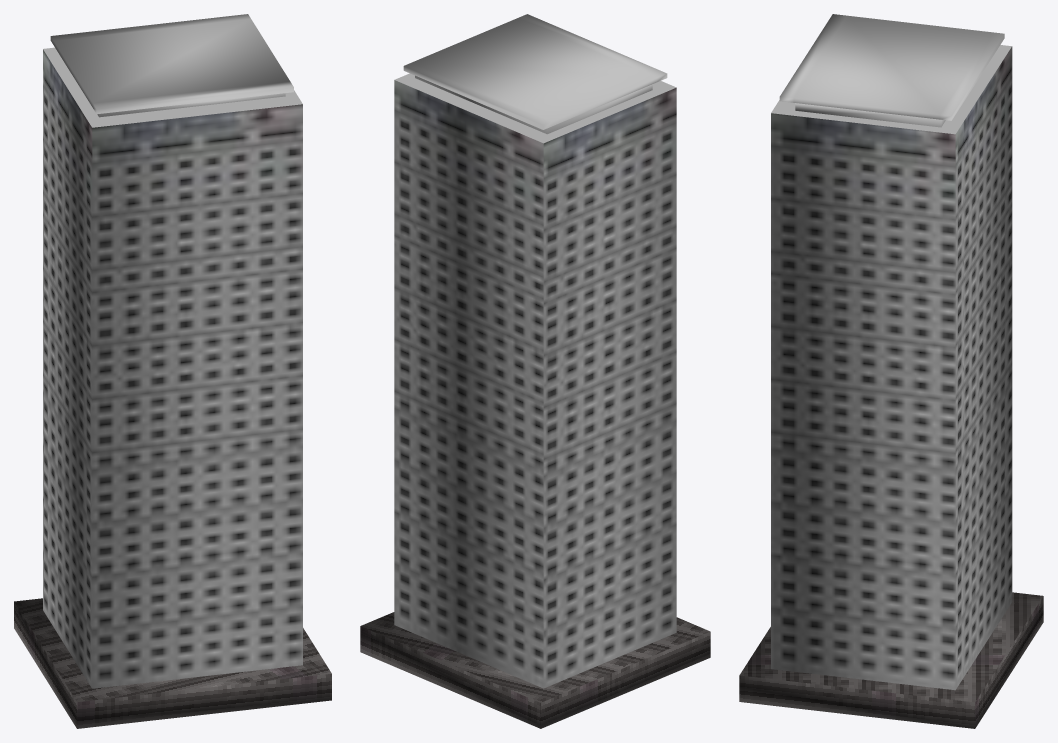
Rendered from BOA_Tower.dae.
3 views of the same model, side by side, from view 1: azimuth 30°, elevation 25°; view 2: azimuth 150°, elevation 25°; view 3: azimuth 270°, elevation 25° (orthographic). The views are drawn at different scales.
Parts seen in each view (by area): view 1: _Beige_1, _Black_, _Brown_, FrontColor; view 2: _Beige_1, _Black_, _Brown_, FrontColor; view 3: _Beige_1, _Black_, _Brown_, FrontColor.
Boxes of the visible parts, left/top/right/bottom form: _Beige_1: left=43, top=49, right=302, bottom=688; _Black_: left=50, top=14, right=293, bottom=117; _Brown_: left=14, top=598, right=331, bottom=728; FrontColor: left=43, top=47, right=302, bottom=127; _Beige_1: left=394, top=80, right=676, bottom=688; _Black_: left=403, top=14, right=667, bottom=134; _Brown_: left=360, top=612, right=710, bottom=728; FrontColor: left=394, top=73, right=676, bottom=143; _Beige_1: left=771, top=46, right=1012, bottom=690; _Black_: left=779, top=14, right=1004, bottom=127; _Brown_: left=739, top=592, right=1043, bottom=728; FrontColor: left=771, top=45, right=1011, bottom=134.
Bounding box in the file's own units: 67.79 × 65.23 × 141.
3 materials, 3 textured.
